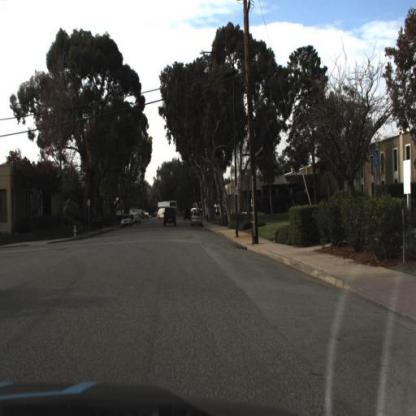car: (164, 207, 181, 230), (192, 212, 206, 228), (123, 214, 135, 229)
pedestrian: (99, 214, 104, 232), (95, 213, 98, 231)
